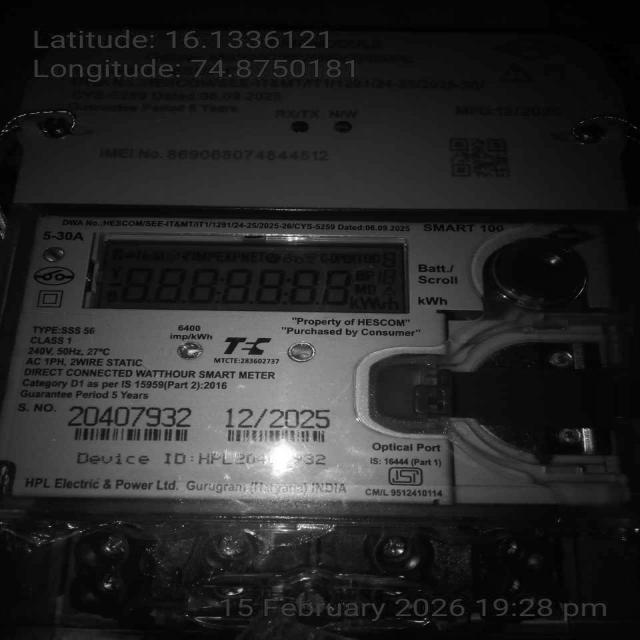meter: (0, 25, 636, 502)
